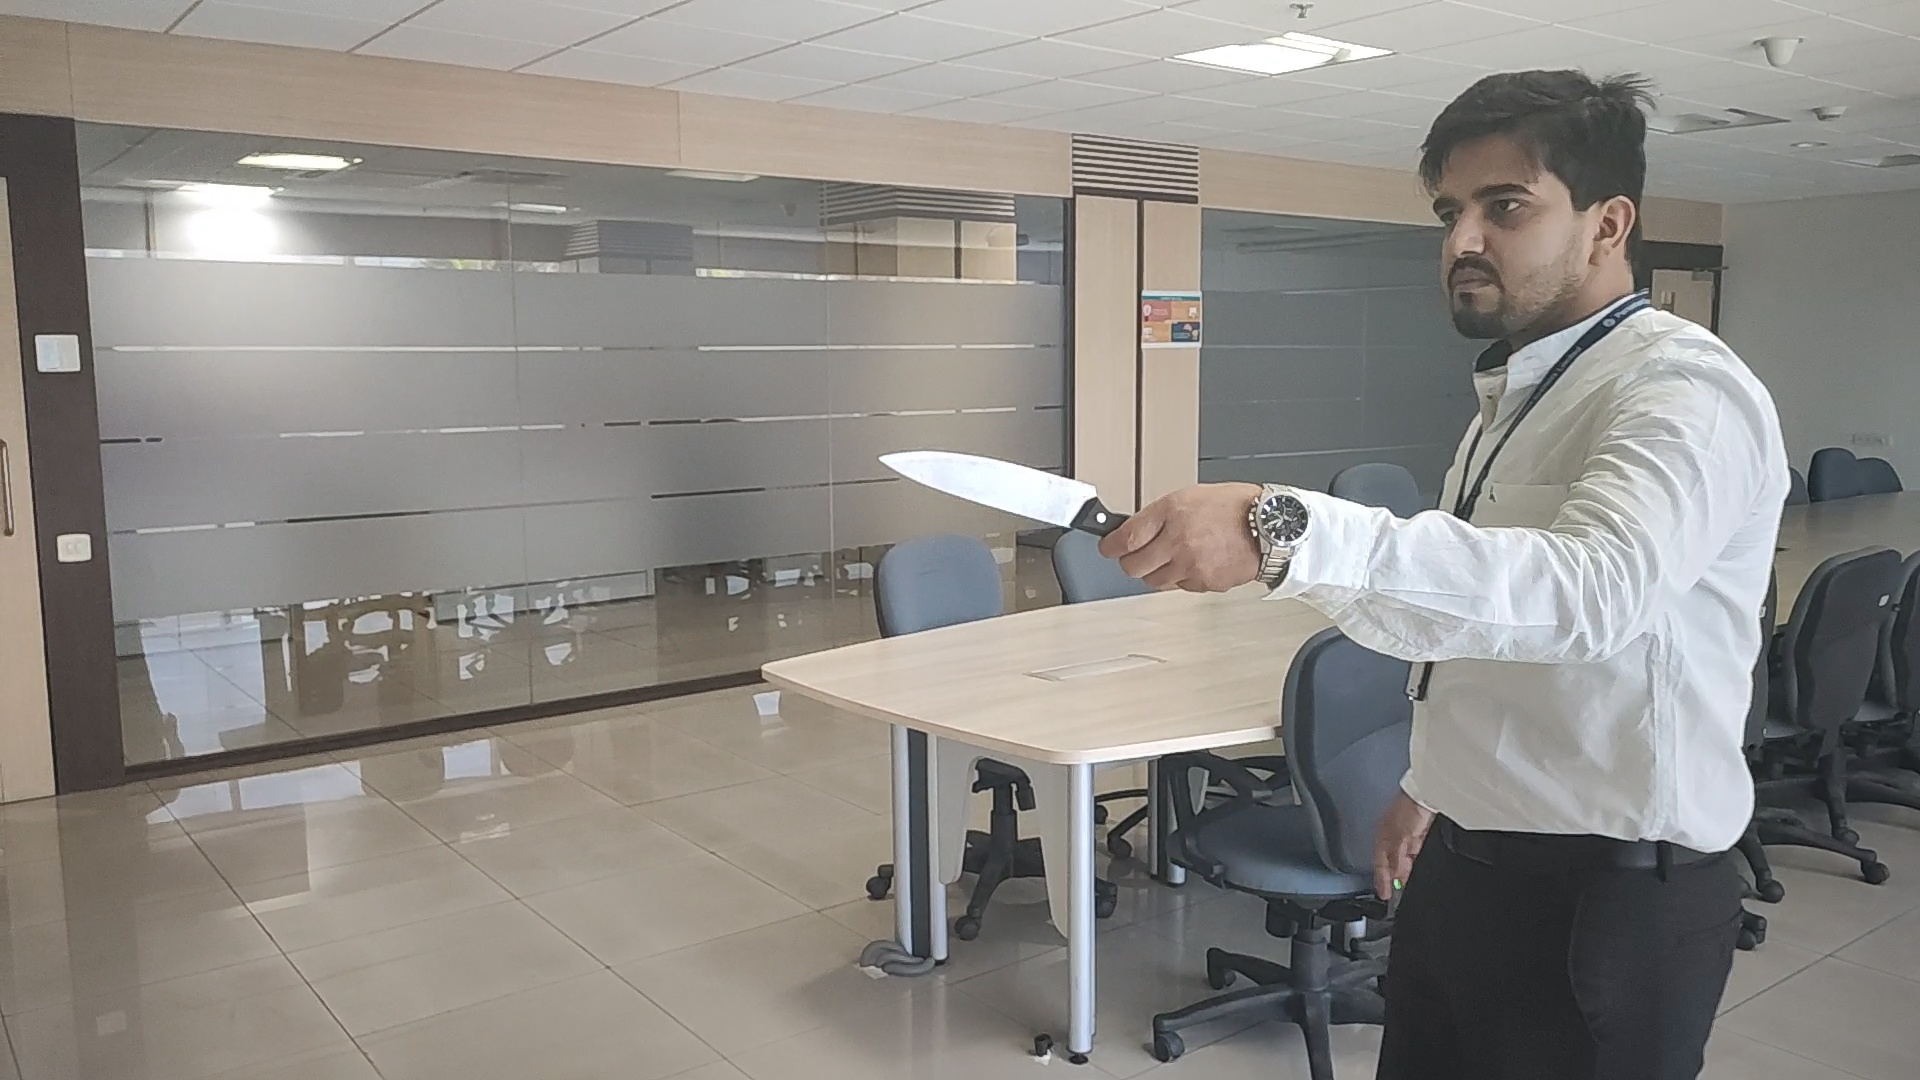knife: (880, 439, 1116, 535)
